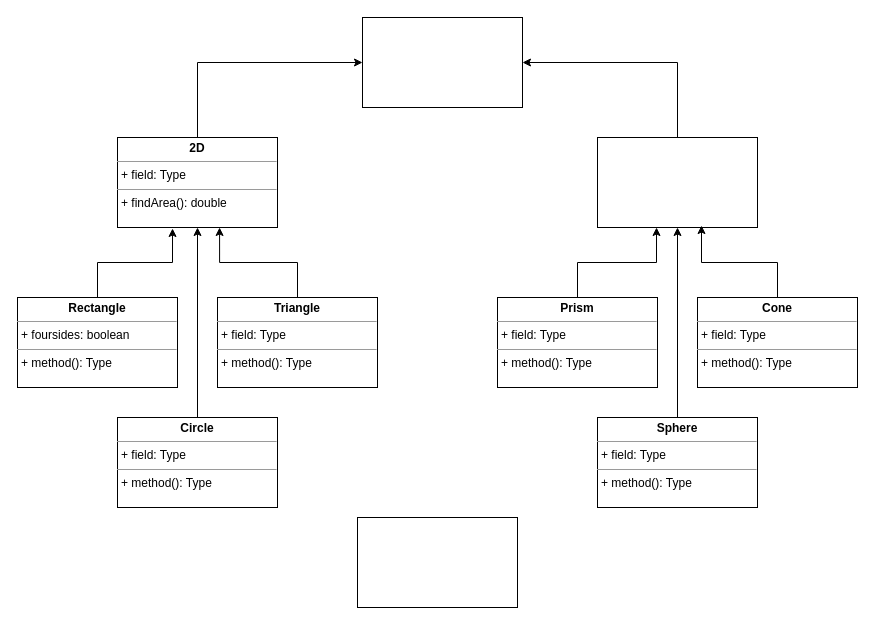
Image size: 875x625. Some labels were removed from this diagram. Each missing label, with the box of its shape:
3D + field: Type + method(): Type: (596, 136, 758, 228)
Class + field: Type + method(): Type: (356, 516, 518, 608)
Shapes + field: Type + method(): Type: (362, 16, 522, 108)
